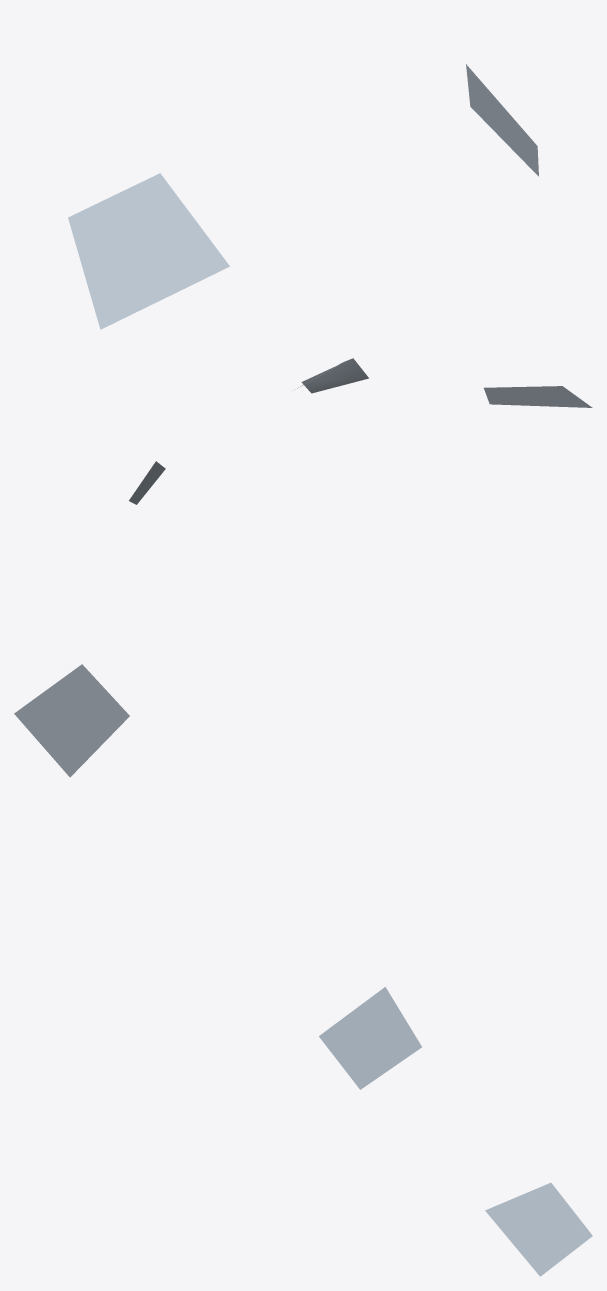
The model's file is dorsal-metatarsal-ligaments-l.glb.
3 views of the same model, one above another, from view 1: azimuth 30°, elevation 25°; view 2: azimuth 150°, elevation 25°; view 3: azimuth 270°, elevation 25° (orthographic). The views are drawn at different scales.
Visible parts, largest first — view 1: Dorsal metatarsal ligaments.l; view 2: Dorsal metatarsal ligaments.l; view 3: Dorsal metatarsal ligaments.l.
Boxes of the visible parts, x1,y1,x2,y2 form: Dorsal metatarsal ligaments.l: (68, 64, 538, 329); Dorsal metatarsal ligaments.l: (129, 358, 592, 504); Dorsal metatarsal ligaments.l: (14, 664, 592, 1276).
Size of the model in its own units: 0.0364 by 0.0221 by 0.0316.
